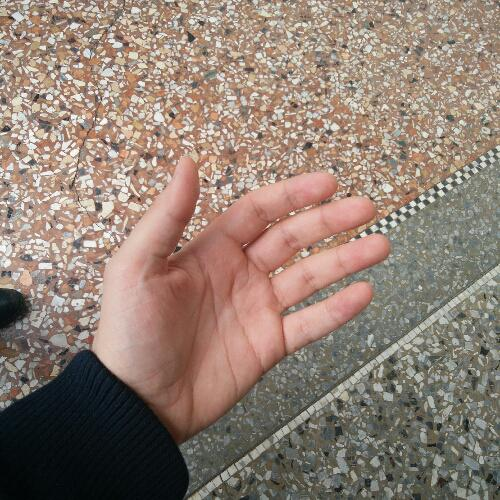paper: (78, 139, 401, 458)
